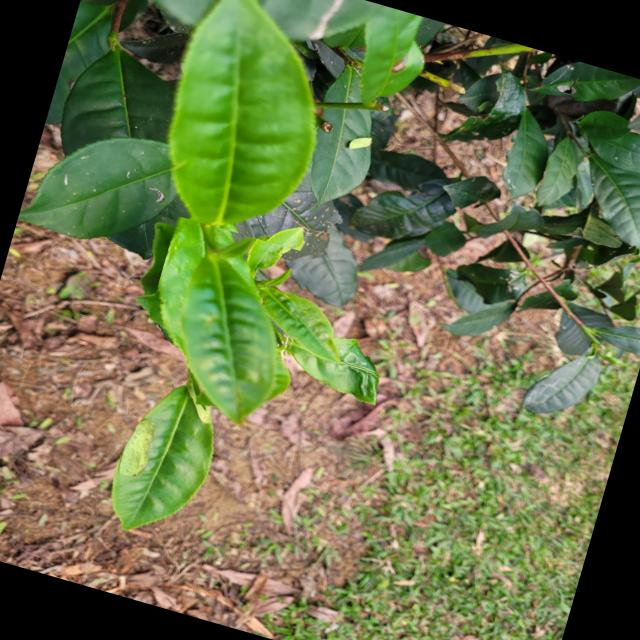Catagory A(1-2 days): (127, 215, 320, 430)
